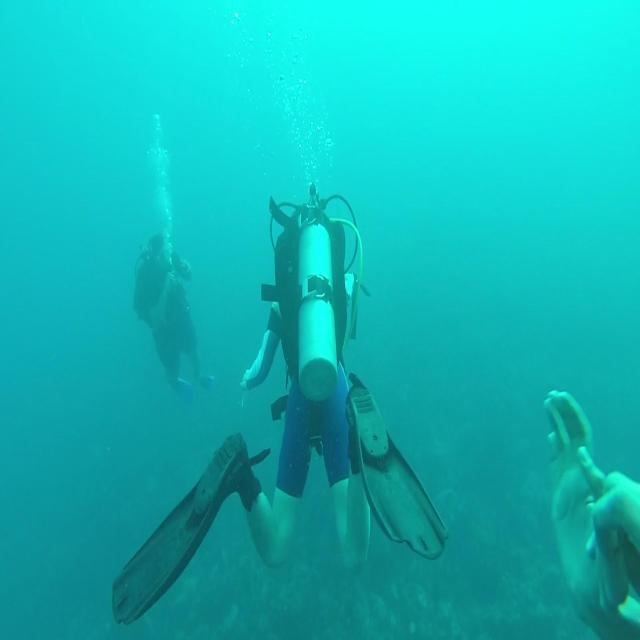human: (237, 184, 372, 571), (543, 388, 639, 638), (132, 231, 214, 398)
